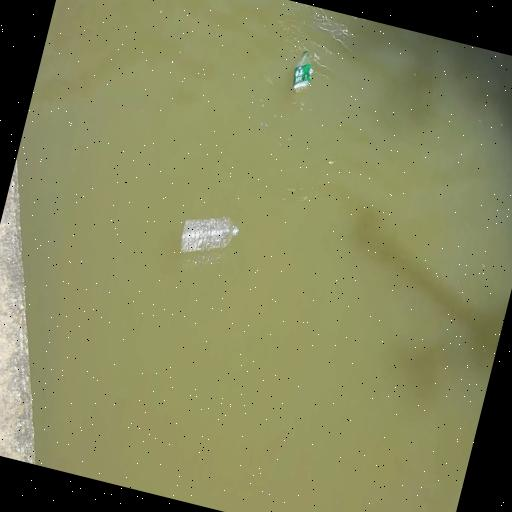plastic: (176, 206, 242, 266), (288, 48, 318, 95)
